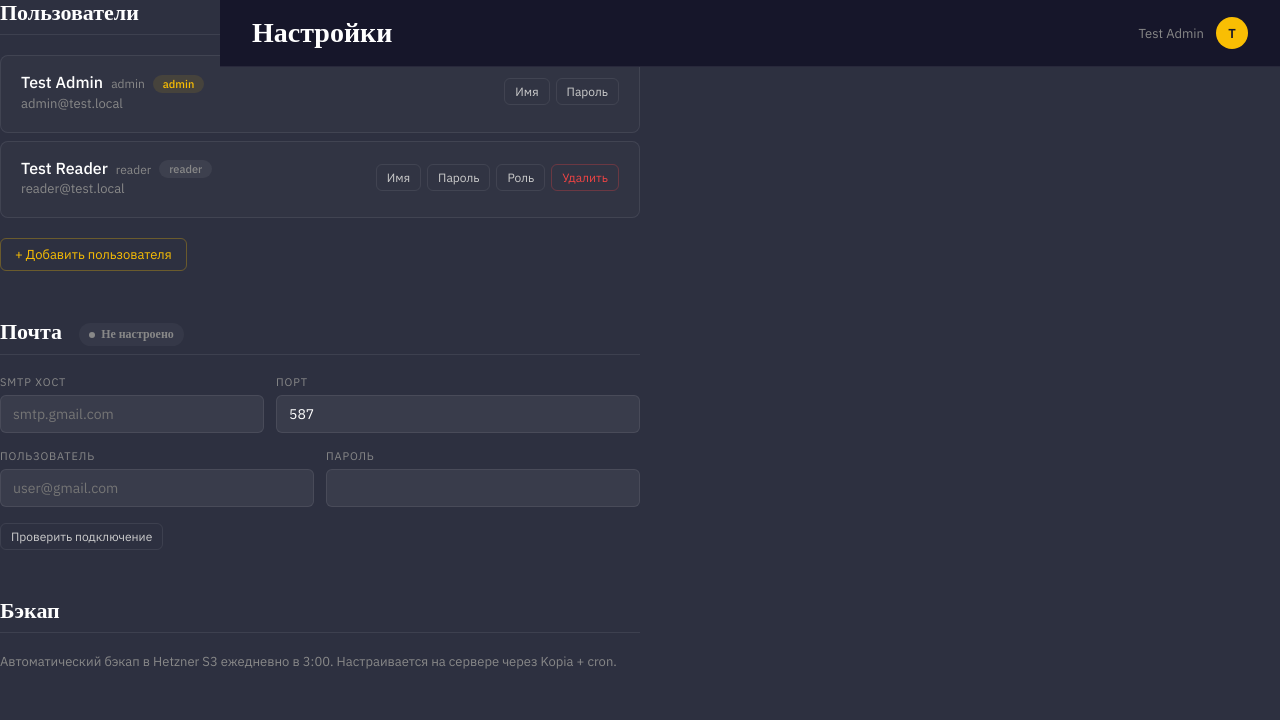
Test: AdminPage › Delete user › removes user from list on successful delete
Expected: the text "Test Reader" is shown, [21,158,108,178]
Click the button "Удалить". click: {"x": 585, "y": 177}
box: [551,164,619,191]
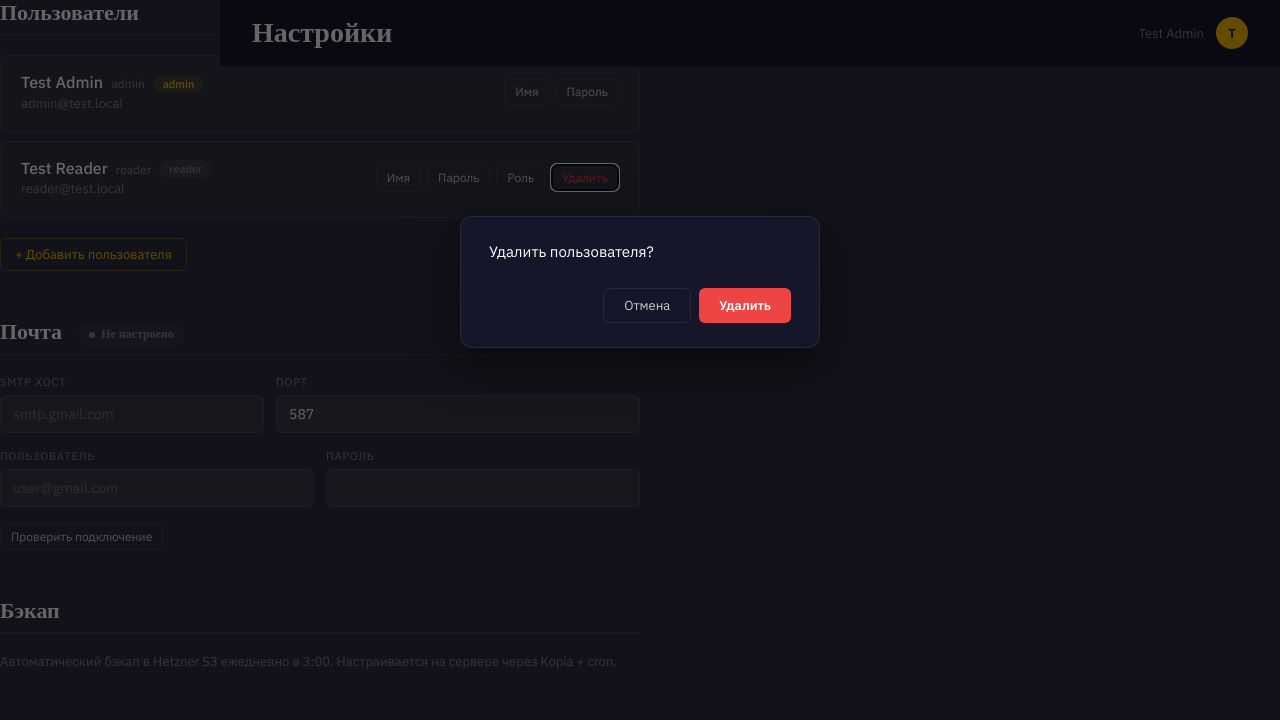
Expected: the text "Удалить пользователя?" is shown, [489,242,654,261]
Click the button with test id "confirm-dialog-submit". click: {"x": 745, "y": 305}
box: [699,288,791,322]
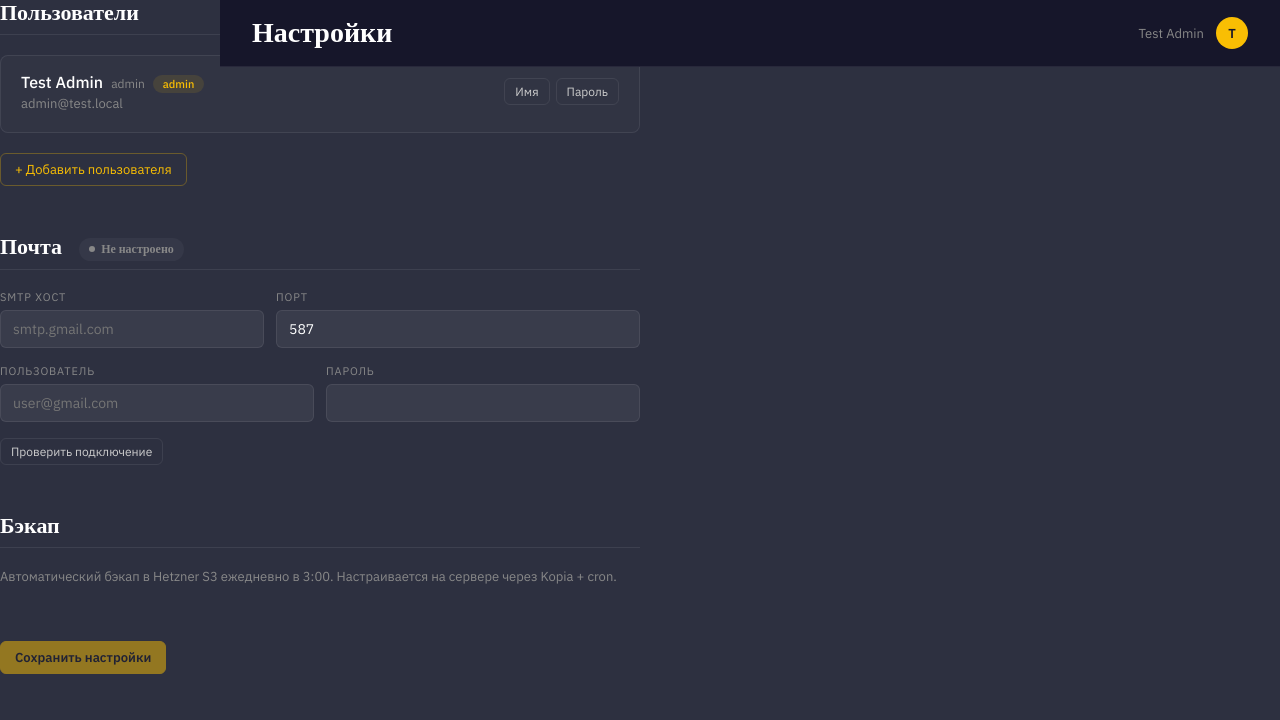
Expected: the text "Test Reader" is gone
